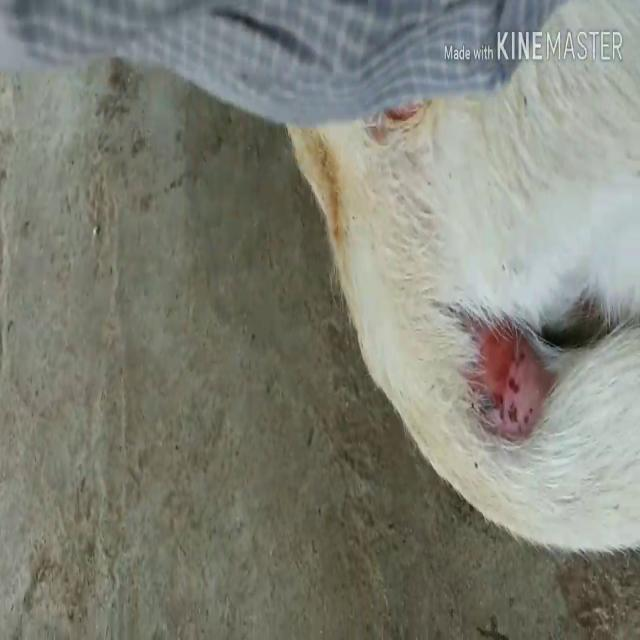hac lao: (419, 279, 611, 466)
